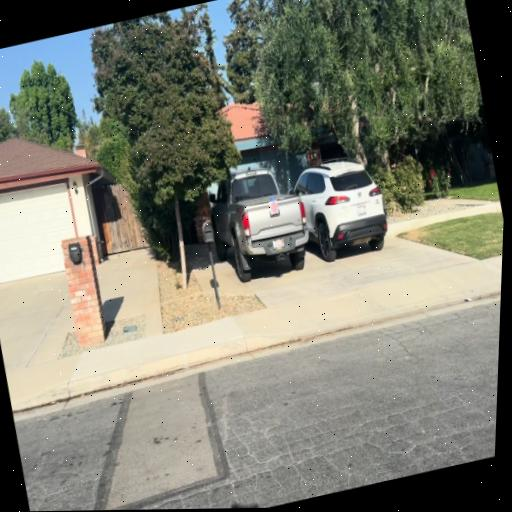bullseye: (269, 199, 279, 214)
